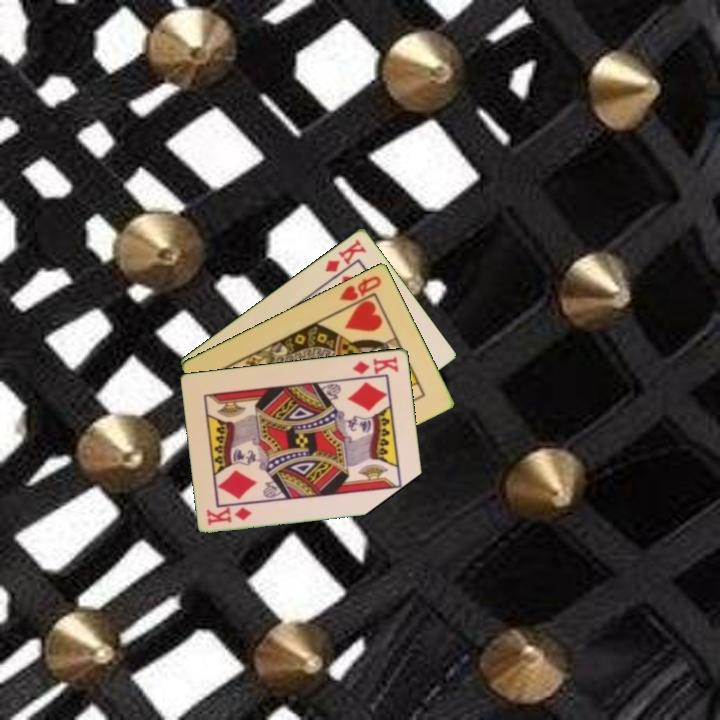Kd: (321, 235, 369, 275), (349, 353, 401, 377), (203, 503, 255, 527)
Qh: (336, 272, 384, 304)
